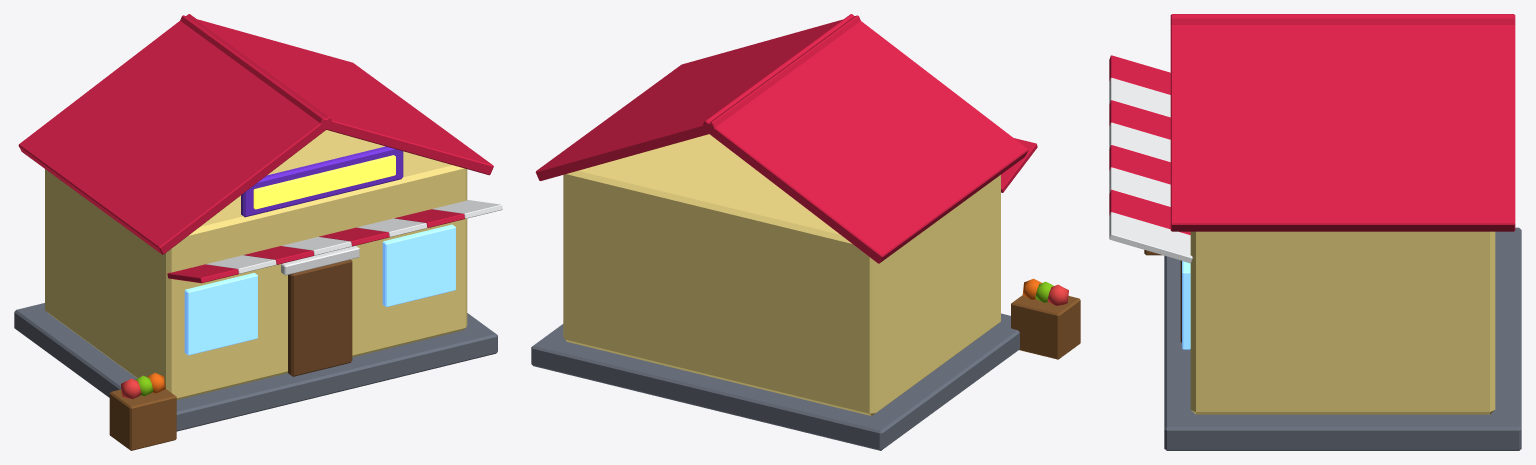
Rendered from shop.glb.
3 renders of one model, left to right at view 1: azimuth 30°, elevation 25°; view 2: azimuth 150°, elevation 25°; view 3: azimuth 270°, elevation 25°, orthographic. The views are drawn at different scales.
Parts seen in each view (by area): view 1: g_m_e11d48, g_m_fde68a, g_m_6b7280, g_m_93c5fd_e, g_m_7a4f2a, g_m_8a5a2b, g_m_fde047_e, g_m_7c3aed, g_m_f8fafc.001, g_m_f8fafc; view 2: g_m_fde68a, g_m_e11d48, g_m_6b7280, g_m_8a5a2b; view 3: g_m_e11d48, g_m_fde68a, g_m_6b7280, g_m_f8fafc.001, g_m_93c5fd_e.
Boxes of the visible parts, x1=… form: g_m_e11d48: x1=18, y1=14, x2=493, y2=283; g_m_fde68a: x1=45, y1=130, x2=467, y2=399; g_m_6b7280: x1=14, y1=303, x2=497, y2=431; g_m_93c5fd_e: x1=184, y1=224, x2=455, y2=355; g_m_7a4f2a: x1=288, y1=259, x2=352, y2=376; g_m_8a5a2b: x1=109, y1=389, x2=176, y2=450; g_m_fde047_e: x1=253, y1=155, x2=395, y2=209; g_m_7c3aed: x1=241, y1=146, x2=403, y2=217; g_m_f8fafc.001: x1=206, y1=200, x2=502, y2=273; g_m_f8fafc: x1=281, y1=245, x2=359, y2=275; g_m_fde68a: x1=563, y1=134, x2=1000, y2=415; g_m_e11d48: x1=535, y1=14, x2=1037, y2=263; g_m_6b7280: x1=531, y1=313, x2=1019, y2=450; g_m_8a5a2b: x1=1011, y1=295, x2=1080, y2=359; g_m_e11d48: x1=1109, y1=14, x2=1515, y2=234; g_m_fde68a: x1=1190, y1=231, x2=1495, y2=414; g_m_6b7280: x1=1164, y1=227, x2=1521, y2=450; g_m_f8fafc.001: x1=1109, y1=77, x2=1192, y2=263; g_m_93c5fd_e: x1=1182, y1=261, x2=1190, y2=349.
Size of the model in its own units: 8 by 5.59 by 6.23.
